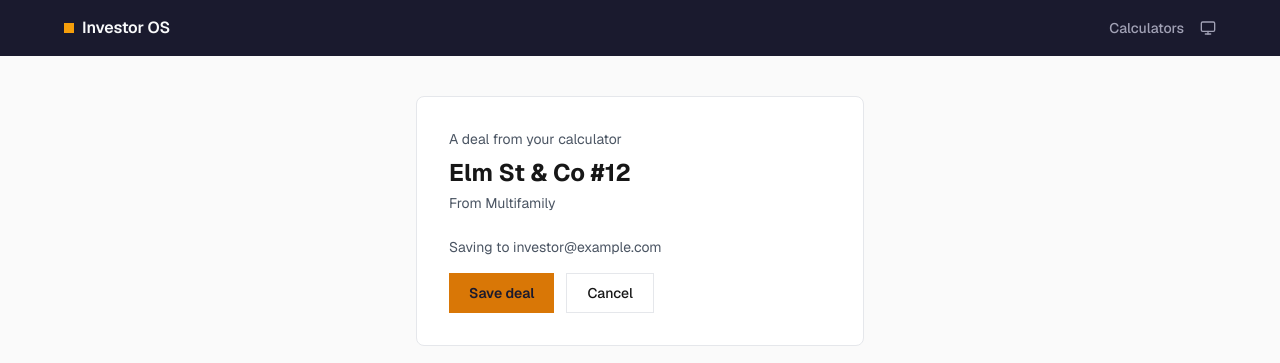
/import, signed in › saves exactly what was sent, then shows the saved state and empties the stash
Click the button "Save deal" at (502, 293), box [449,273,554,313]
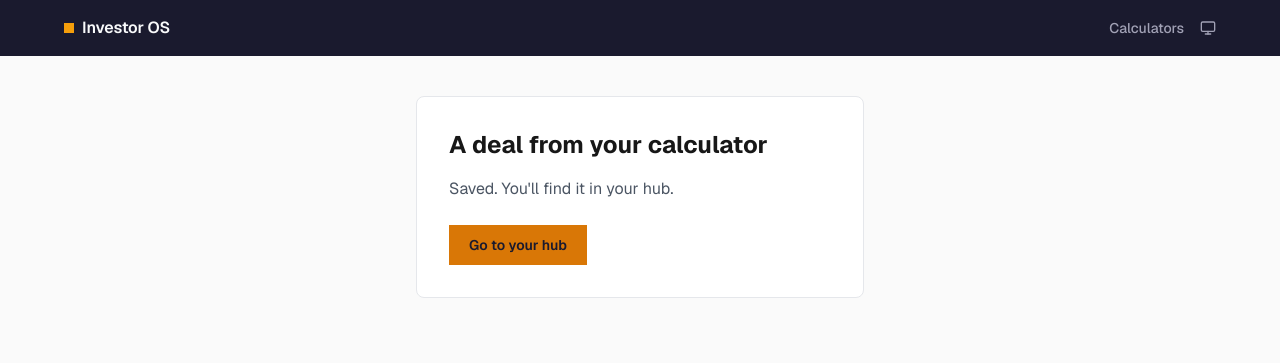
Now the text "Saved. You'll find it in your hub." is shown, box [449,178,673,199]
